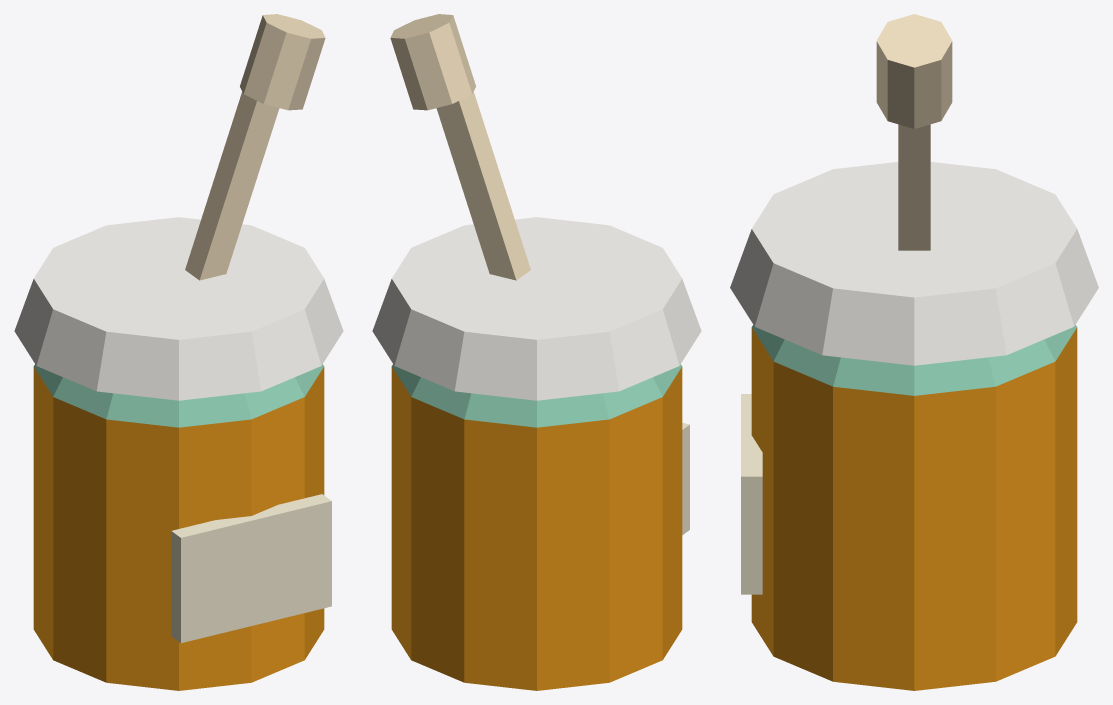
File: honey.obj
The picture shows the model from 3 angles, left to right: view 1: azimuth 30°, elevation 25°; view 2: azimuth 150°, elevation 25°; view 3: azimuth 270°, elevation 25°; orthographic projection. The views are drawn at different scales.
Visible parts, largest first — view 1: item; view 2: item; view 3: item.
Boxes of the visible parts, <box> form: item: <box>14,14,343,690</box>; item: <box>372,14,701,690</box>; item: <box>730,14,1098,690</box>.
Bounding box in the file's own units: 0.3403 × 0.6671 × 0.34.
